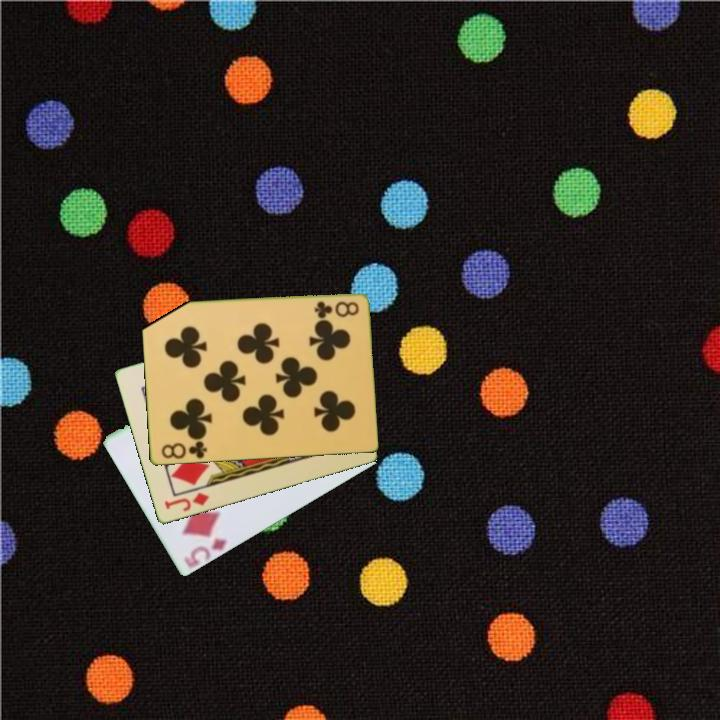5d: (182, 535, 230, 567)
8c: (158, 436, 209, 462), (311, 298, 362, 320)
Jd: (161, 489, 212, 515)
